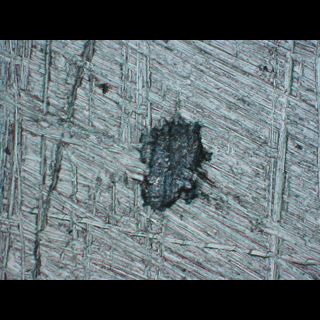d: (133, 105, 215, 217)
